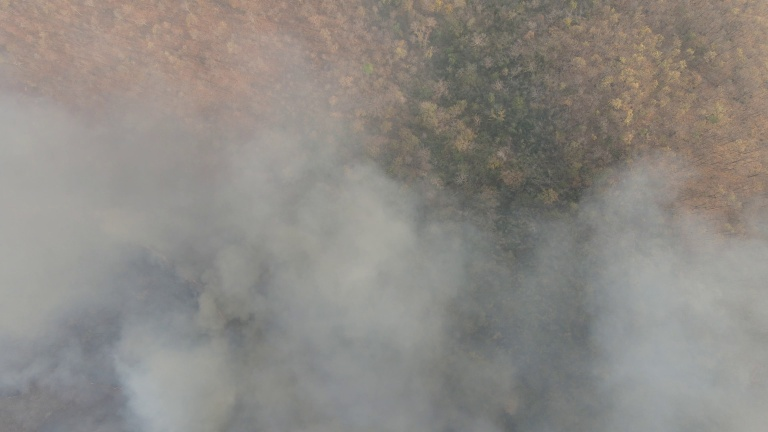smoke: (145, 150, 464, 432), (12, 89, 312, 375), (592, 183, 763, 405)
